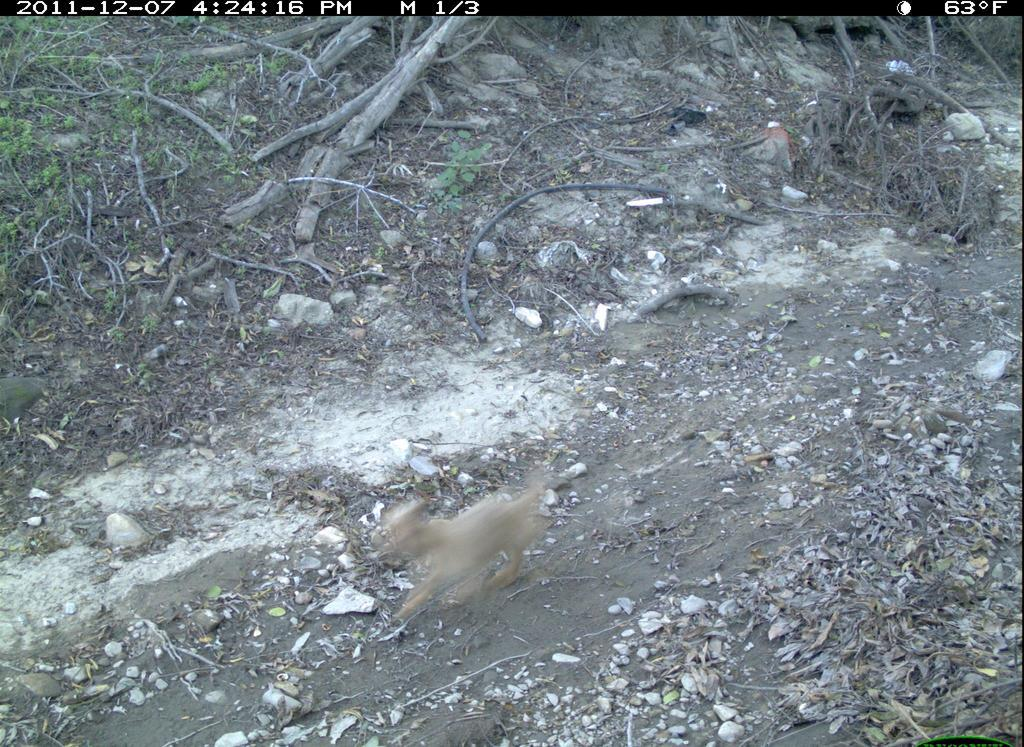dog: (367, 464, 561, 625)
